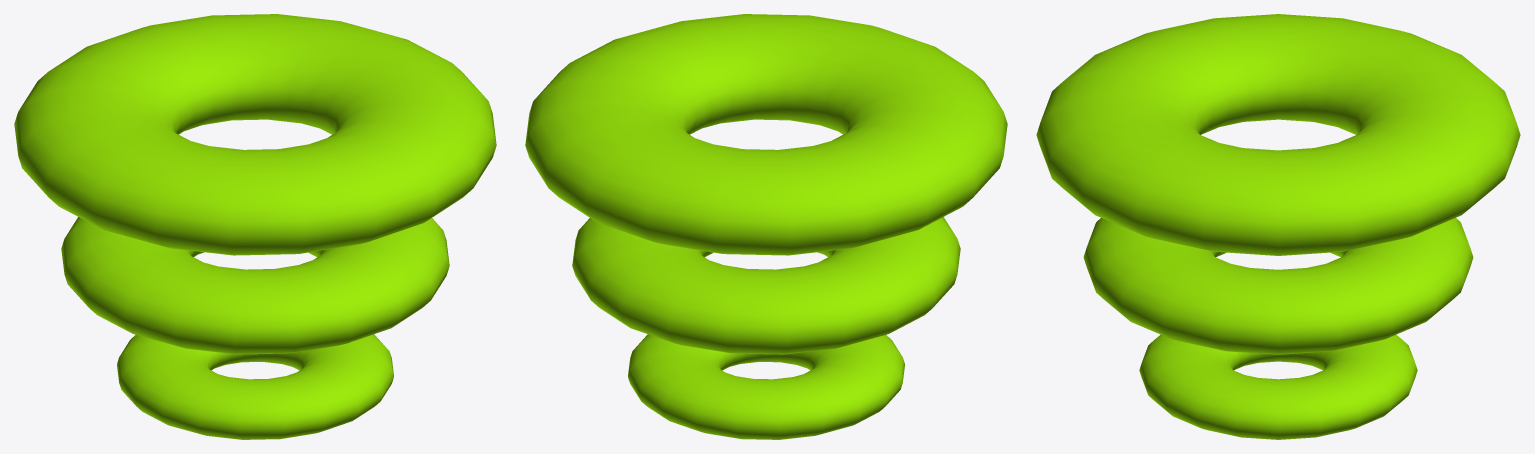
File: uforings.fbx
The picture shows the model from 3 angles, left to right: view 1: azimuth 30°, elevation 25°; view 2: azimuth 150°, elevation 25°; view 3: azimuth 270°, elevation 25°; orthographic projection.
Visible parts, largest first — view 1: pasted__pTorus1; view 2: pasted__pTorus1; view 3: pasted__pTorus1.
Part boxes in pixels (x1=…): pasted__pTorus1: x1=14, y1=14, x2=496, y2=439; pasted__pTorus1: x1=525, y1=14, x2=1007, y2=439; pasted__pTorus1: x1=1036, y1=14, x2=1520, y2=439.
Size of the model in its own units: 11.74 by 8.01 by 11.74.
